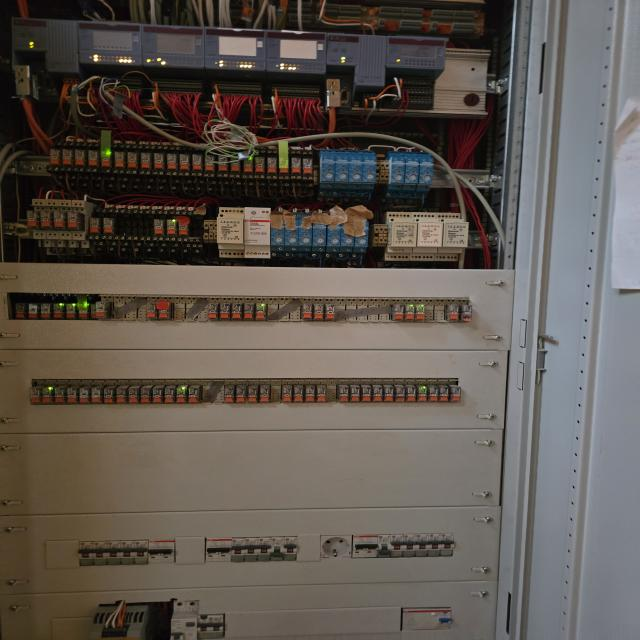Dimmer: (434, 213, 469, 261), (385, 212, 418, 261), (410, 212, 443, 261), (217, 207, 245, 258), (244, 207, 270, 259), (416, 154, 434, 191), (388, 153, 405, 190), (402, 154, 419, 191), (333, 152, 349, 189), (347, 152, 363, 189), (320, 151, 335, 188), (361, 153, 376, 189), (284, 216, 298, 252), (298, 216, 312, 252), (353, 222, 369, 253), (270, 220, 285, 251), (311, 223, 326, 252), (339, 223, 354, 252), (326, 224, 341, 252)
FI: (400, 606, 453, 631)
FI_Sicherungskombi: (171, 600, 200, 640)
Leitungsschutzschalter: (209, 614, 224, 639), (79, 541, 94, 566), (120, 540, 135, 565), (93, 541, 108, 565), (134, 540, 149, 564), (231, 537, 245, 562), (257, 537, 271, 562), (283, 536, 297, 561), (107, 541, 121, 565), (148, 539, 162, 563), (161, 539, 175, 563), (206, 538, 220, 562), (218, 538, 232, 562), (244, 537, 258, 561), (270, 537, 284, 561), (197, 615, 210, 640), (352, 535, 366, 558), (415, 534, 429, 557), (377, 535, 391, 557), (365, 535, 378, 558), (390, 534, 403, 557), (403, 534, 416, 557), (428, 534, 441, 557), (440, 533, 453, 556)
Relais: (91, 301, 112, 319), (67, 211, 85, 230), (156, 299, 171, 320), (87, 146, 100, 168), (176, 216, 190, 236), (53, 210, 67, 229), (27, 209, 40, 229), (103, 217, 116, 235), (77, 302, 90, 320), (176, 385, 189, 403), (140, 385, 152, 404), (247, 384, 259, 403), (89, 217, 102, 234), (254, 303, 267, 320), (391, 304, 404, 321), (446, 304, 459, 321), (140, 152, 151, 172), (153, 218, 165, 236), (460, 304, 472, 322), (54, 386, 66, 404), (103, 386, 115, 404), (116, 386, 128, 404), (128, 386, 140, 404), (101, 149, 112, 168), (146, 300, 157, 319), (259, 384, 270, 403), (293, 384, 304, 403), (15, 303, 28, 319), (74, 149, 86, 166), (127, 152, 139, 169), (166, 219, 178, 236), (219, 303, 231, 320), (42, 386, 54, 403), (67, 387, 79, 404), (79, 386, 90, 404), (152, 386, 163, 404), (164, 385, 175, 403), (188, 385, 199, 403), (235, 385, 246, 403), (304, 384, 315, 402), (450, 385, 461, 403), (62, 149, 74, 165), (53, 303, 65, 319), (154, 152, 164, 171), (114, 151, 125, 168), (204, 154, 215, 171), (254, 156, 265, 173), (243, 303, 254, 320), (313, 304, 324, 321), (404, 304, 415, 321), (91, 386, 102, 403), (372, 385, 383, 402), (338, 385, 349, 402), (428, 385, 439, 402), (383, 385, 394, 402), (50, 149, 60, 167), (291, 157, 301, 175), (303, 157, 313, 175), (41, 210, 51, 228), (224, 385, 234, 403), (28, 303, 39, 319), (208, 303, 219, 319), (301, 304, 312, 320), (192, 154, 202, 171), (179, 154, 189, 171), (167, 153, 177, 170), (267, 157, 277, 174), (415, 304, 425, 321), (31, 387, 41, 404), (316, 385, 326, 402), (361, 385, 371, 402), (350, 385, 360, 402), (439, 385, 449, 402), (418, 385, 428, 402), (406, 385, 416, 402), (395, 385, 405, 402), (41, 303, 51, 319), (66, 303, 76, 319), (325, 304, 335, 320), (282, 387, 292, 403), (232, 303, 241, 320), (218, 157, 228, 172), (279, 158, 288, 174), (230, 158, 240, 172), (244, 158, 253, 173)
SPS_System_Steuerungskomponente: (142, 23, 205, 69), (78, 21, 142, 66), (203, 27, 267, 71), (265, 30, 326, 74), (12, 18, 79, 53), (327, 32, 387, 67), (386, 36, 447, 70)
Verbinder: (372, 224, 388, 247), (374, 160, 389, 184), (203, 220, 217, 243)
